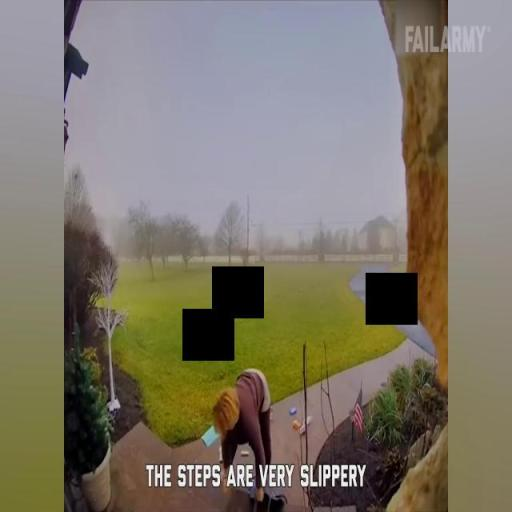Fall: (212, 368, 275, 511)
